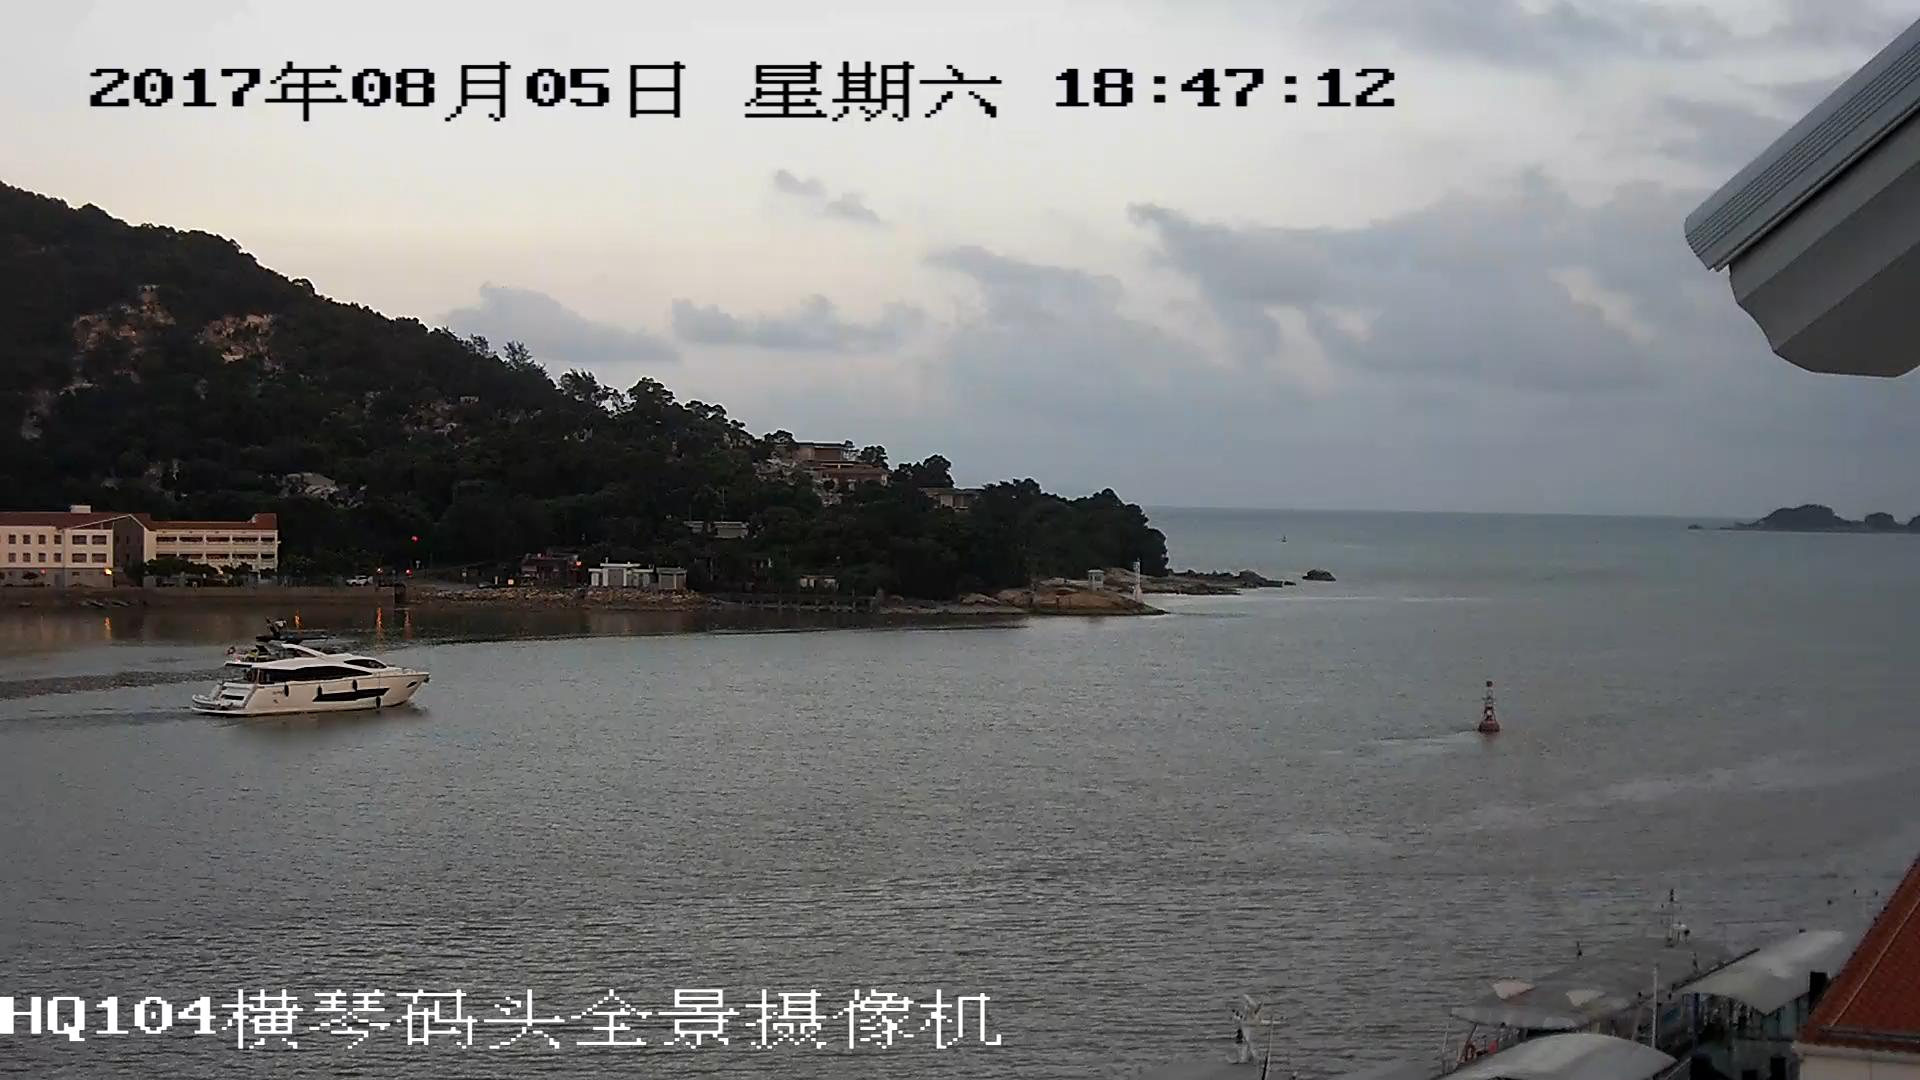passenger ship: (189, 627, 432, 717)
